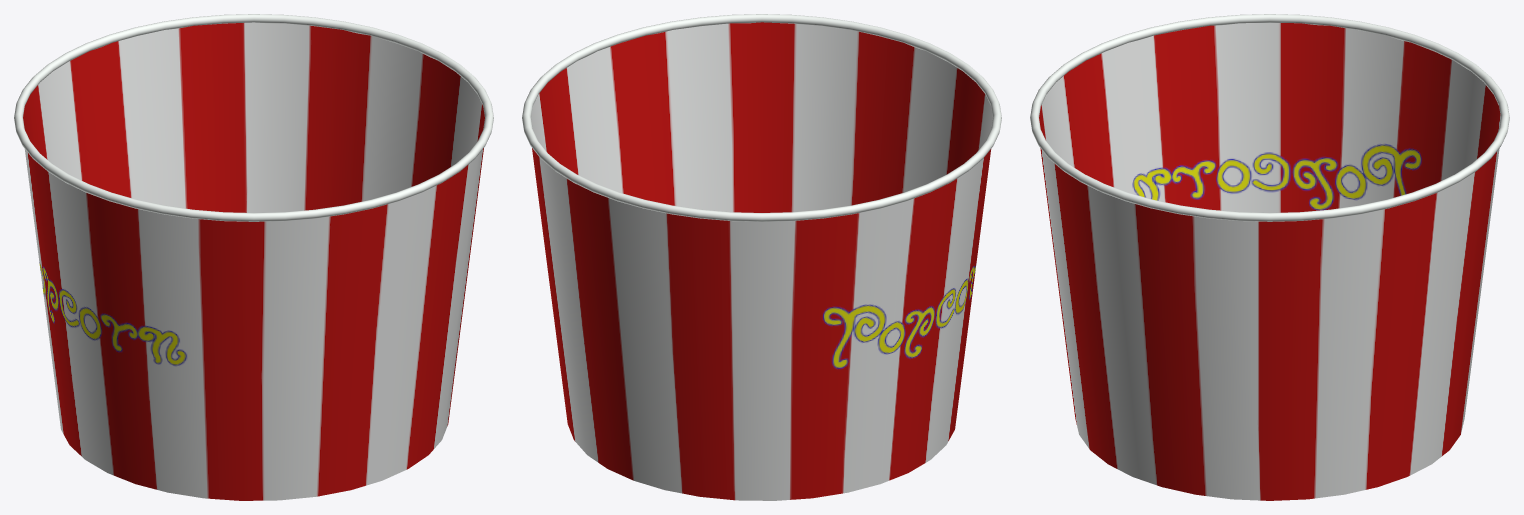
The model's file is popcorn-cup.glb.
3 renders of one model, left to right at view 1: azimuth 30°, elevation 25°; view 2: azimuth 150°, elevation 25°; view 3: azimuth 270°, elevation 25°, orthographic.
Parts seen in each view (by area): view 1: Cylinder; view 2: Cylinder; view 3: Cylinder.
Part boxes in pixels (box(x1,y1,x2,y2)): Cylinder: box(14, 14, 493, 500); Cylinder: box(522, 14, 1001, 500); Cylinder: box(1030, 14, 1509, 500).
Size of the model in its own units: 6.55 by 4.6 by 6.55.
2 materials, 1 textured.
